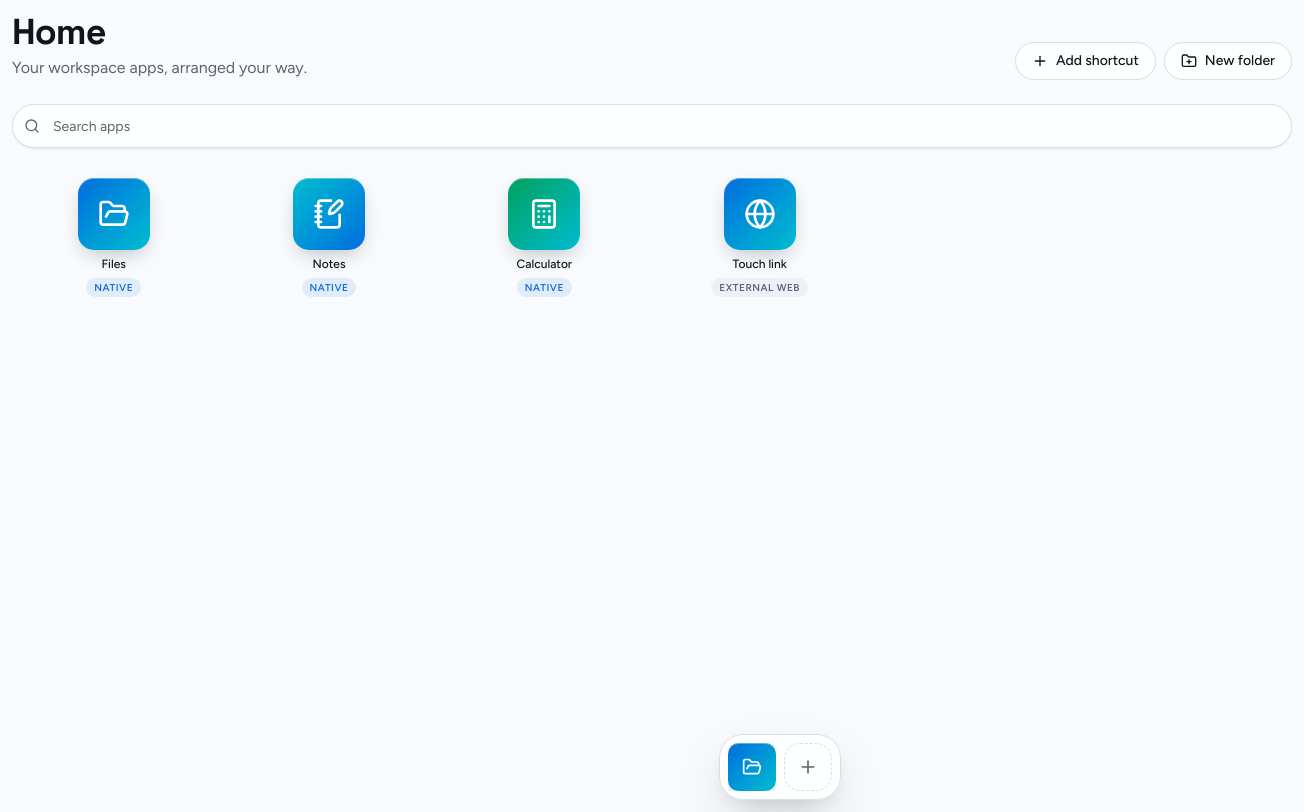
Home shortcut management › opens the management menu on a touch long-press
Press the mouse on the button with aria-label "Touch link — External Web": (760, 238) [664,178,855,297]
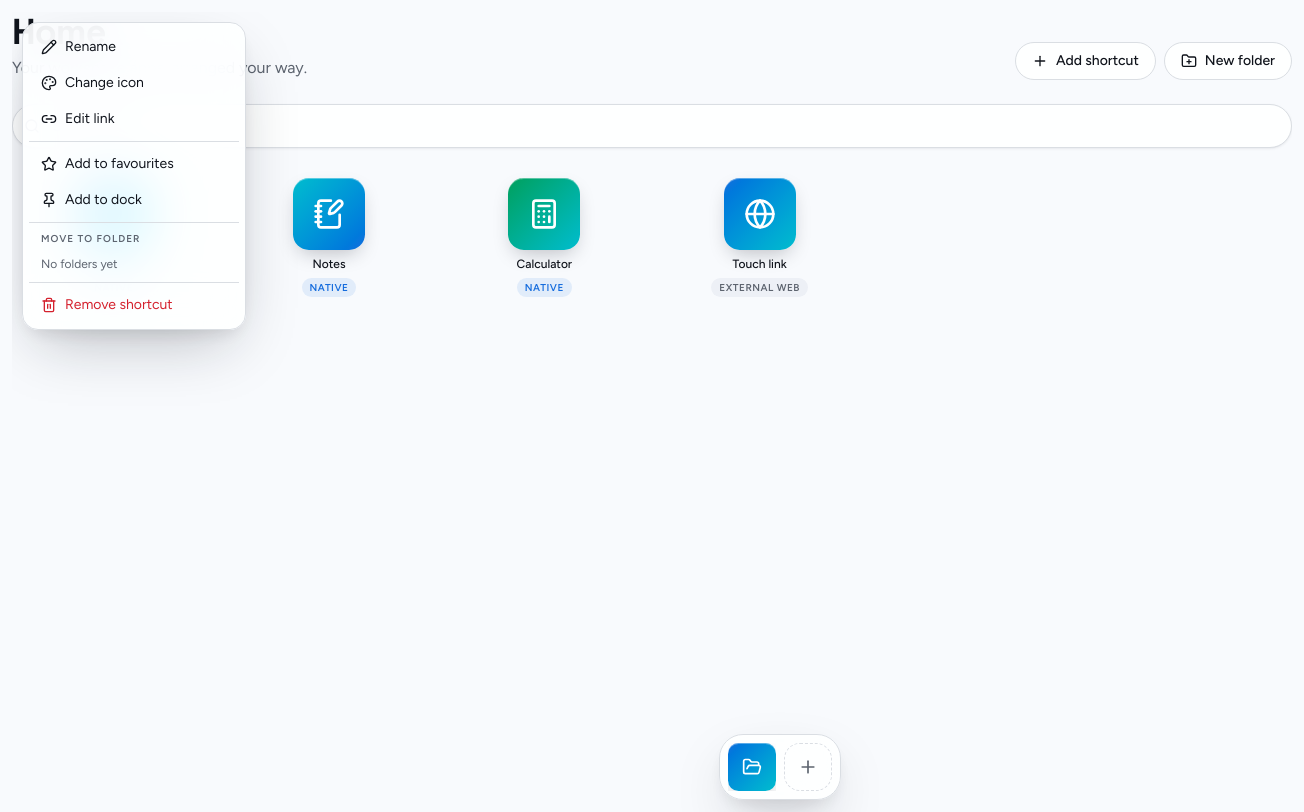
Expected: the menu item with test id "home.menu_rename_shortcut_button" is shown, [29,29,239,65]
